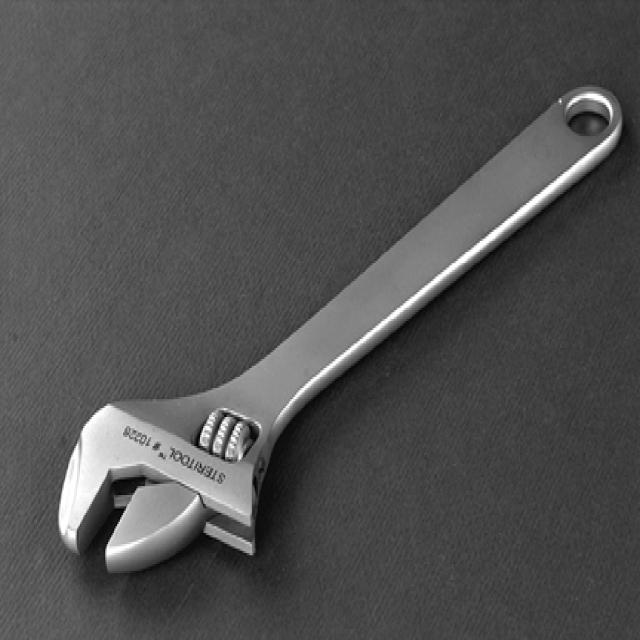wrench: (16, 13, 640, 640)
